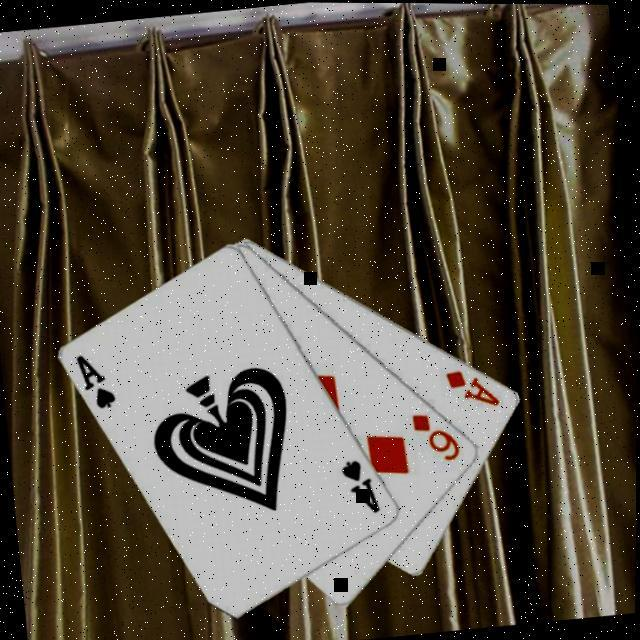6D: (407, 404, 465, 465)
AD: (442, 361, 503, 412)
AS: (72, 347, 120, 413), (337, 453, 383, 517)
